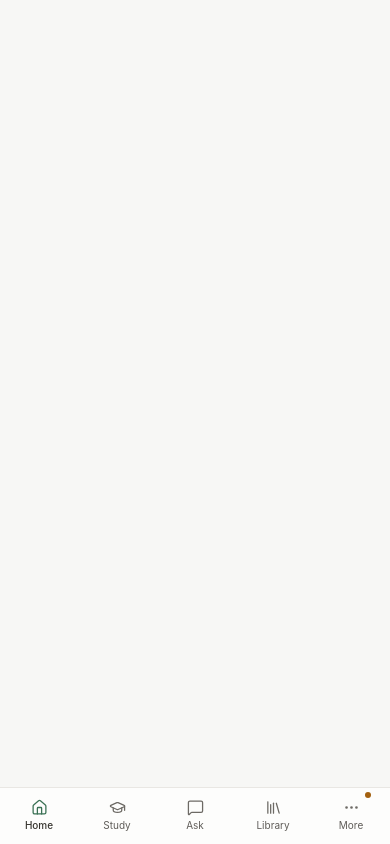
Test case: MobileNav › opens the Library sheet listing courses
Click the button "Library" at x=273, y=816, box [234,788,312,843]
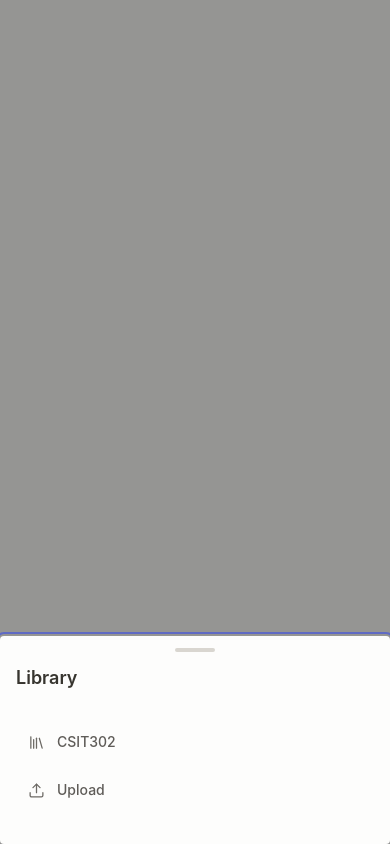
Now the link "Upload" is shown, box [28,781,105,798]
